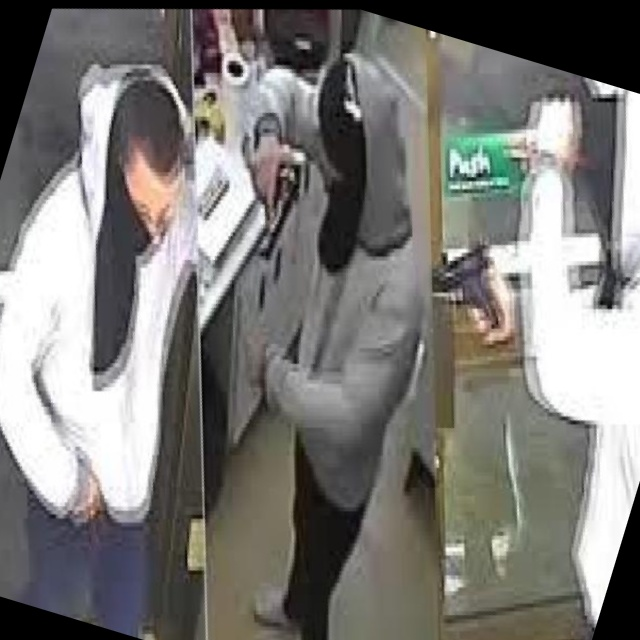gun: (401, 208, 540, 358), (215, 135, 328, 271)
